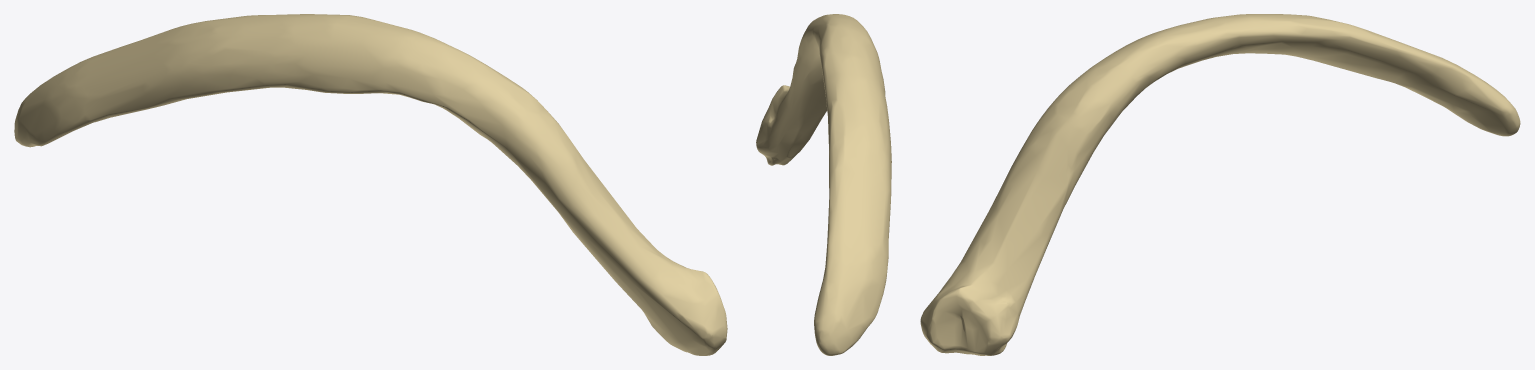
3 renders of one model, left to right at view 1: azimuth 30°, elevation 25°; view 2: azimuth 150°, elevation 25°; view 3: azimuth 270°, elevation 25°, orthographic. The views are drawn at different scales.
Visible parts, largest first — view 1: 右侧第十二肋; view 2: 右侧第十二肋; view 3: 右侧第十二肋.
Part boxes in pixels (box(x1,y1,x2,y2)): 右侧第十二肋: box(14, 14, 727, 355); 右侧第十二肋: box(756, 14, 891, 355); 右侧第十二肋: box(920, 14, 1520, 355).
Bounding box in the file's own units: 0.0973 × 0.0654 × 0.1442.
